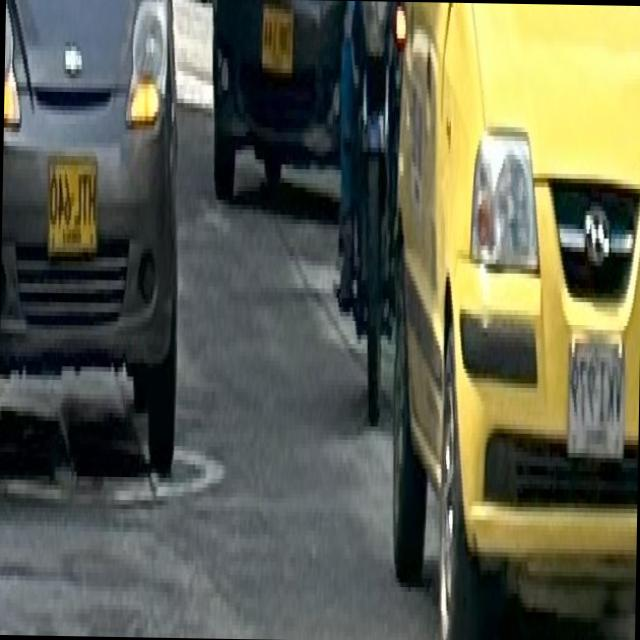number plate: (569, 338, 624, 449), (49, 155, 98, 242)
